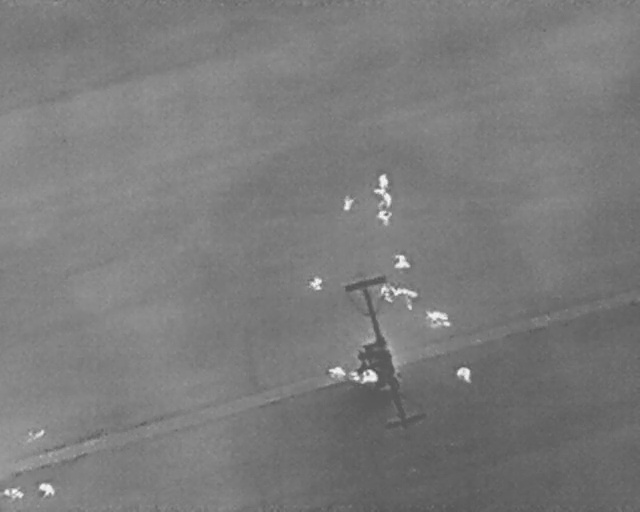Person: (394, 286, 419, 310), (423, 309, 451, 329), (373, 188, 393, 207), (380, 282, 395, 305), (1, 486, 23, 500), (393, 253, 412, 269), (341, 194, 357, 213), (376, 210, 394, 226), (455, 366, 473, 382), (39, 483, 56, 499), (328, 365, 346, 380), (362, 370, 379, 384), (310, 275, 322, 290), (378, 173, 388, 189)
